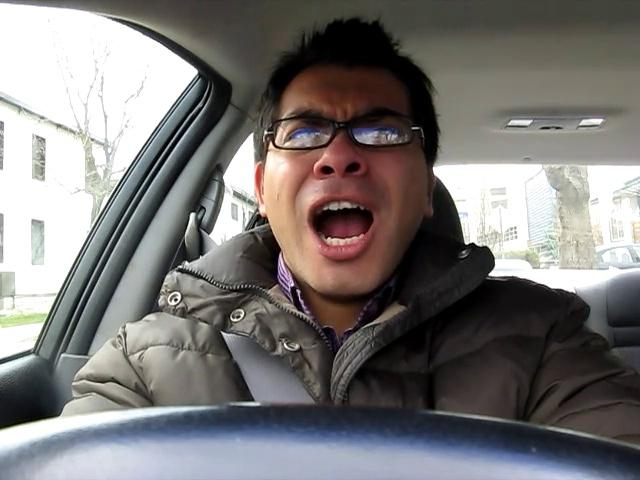close_eyeL: (271, 116, 342, 153)
close_eyeR: (343, 114, 428, 155)
yawn: (287, 190, 397, 257)
